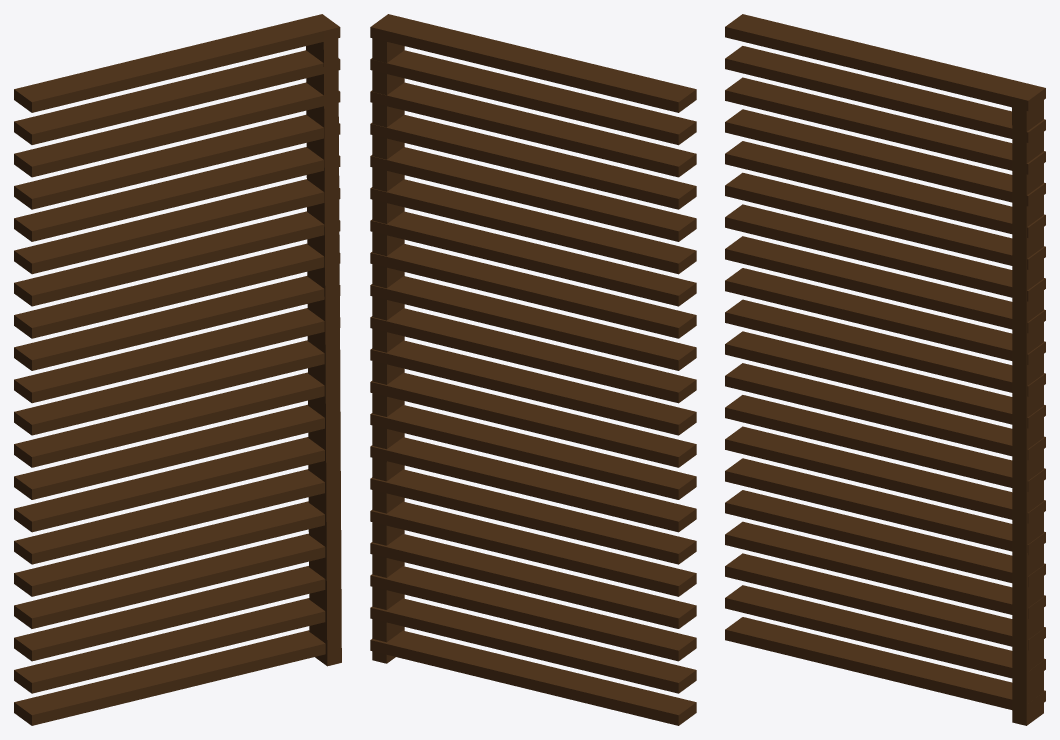
The model's file is Wall left end.glb.
3 renders of one model, left to right at view 1: azimuth 30°, elevation 25°; view 2: azimuth 150°, elevation 25°; view 3: azimuth 330°, elevation 25°, orthographic.
Visible parts, largest first — view 1: Wall_with_planks_side_l.001, Wall_With_Planks_plank_19.006, Wall_With_Planks_plank_00.006, Wall_With_Planks_plank_01.006, Wall_With_Planks_plank_02.006, Wall_With_Planks_plank_03.006, Wall_With_Planks_plank_12.006, Wall_With_Planks_plank_11.006, Wall_With_Planks_plank_14.006, Wall_With_Planks_plank_13.006, Wall_With_Planks_plank_17.006, Wall_With_Planks_plank_10.006 (+9 smaller); view 2: Wall_with_planks_side_l.001, Wall_With_Planks_plank_02.006, Wall_With_Planks_plank_01.006, Wall_With_Planks_plank_00.006, Wall_With_Planks_plank_03.006, Wall_With_Planks_plank_19.006, Wall_With_Planks_plank_04.006, Wall_With_Planks_plank_06.006, Wall_With_Planks_plank_05.006, Wall_With_Planks_plank_07.006, Wall_With_Planks_plank_08.006, Wall_With_Planks_plank_09.006 (+9 smaller); view 3: Wall_with_planks_side_l.001, Wall_With_Planks_plank_19.006, Wall_With_Planks_plank_17.006, Wall_With_Planks_plank_16.006, Wall_With_Planks_plank_18.006, Wall_With_Planks_plank_14.006, Wall_With_Planks_plank_15.006, Wall_With_Planks_plank_13.006, Wall_With_Planks_plank_12.006, Wall_With_Planks_plank_11.006, Wall_With_Planks_plank_10.006, Wall_With_Planks_plank_09.006 (+9 smaller).
Part boxes in pixels (bbox=[...]): Wall_with_planks_side_l.001: bbox=[306, 14, 341, 666]; Wall_With_Planks_plank_19.006: bbox=[14, 14, 340, 112]; Wall_With_Planks_plank_00.006: bbox=[14, 630, 325, 725]; Wall_With_Planks_plank_01.006: bbox=[14, 598, 325, 693]; Wall_With_Planks_plank_02.006: bbox=[14, 566, 325, 661]; Wall_With_Planks_plank_03.006: bbox=[14, 533, 325, 628]; Wall_With_Planks_plank_12.006: bbox=[14, 243, 340, 338]; Wall_With_Planks_plank_11.006: bbox=[14, 276, 340, 370]; Wall_With_Planks_plank_14.006: bbox=[14, 179, 340, 274]; Wall_With_Planks_plank_13.006: bbox=[14, 211, 340, 306]; Wall_With_Planks_plank_17.006: bbox=[14, 82, 340, 177]; Wall_With_Planks_plank_10.006: bbox=[14, 308, 340, 403]; Wall_with_planks_side_l.001: bbox=[372, 14, 404, 663]; Wall_With_Planks_plank_02.006: bbox=[370, 566, 696, 661]; Wall_With_Planks_plank_01.006: bbox=[370, 598, 696, 693]; Wall_With_Planks_plank_00.006: bbox=[370, 630, 696, 725]; Wall_With_Planks_plank_03.006: bbox=[370, 534, 696, 628]; Wall_With_Planks_plank_19.006: bbox=[370, 14, 696, 112]; Wall_With_Planks_plank_04.006: bbox=[370, 501, 696, 596]; Wall_With_Planks_plank_06.006: bbox=[370, 437, 696, 532]; Wall_With_Planks_plank_05.006: bbox=[370, 469, 696, 564]; Wall_With_Planks_plank_07.006: bbox=[370, 405, 696, 499]; Wall_With_Planks_plank_08.006: bbox=[370, 372, 696, 467]; Wall_With_Planks_plank_09.006: bbox=[370, 340, 696, 435]; Wall_with_planks_side_l.001: bbox=[1012, 84, 1043, 725]; Wall_With_Planks_plank_19.006: bbox=[725, 14, 1045, 111]; Wall_With_Planks_plank_17.006: bbox=[725, 77, 1045, 174]; Wall_With_Planks_plank_16.006: bbox=[725, 109, 1045, 206]; Wall_With_Planks_plank_18.006: bbox=[725, 46, 1045, 142]; Wall_With_Planks_plank_14.006: bbox=[725, 172, 1045, 269]; Wall_With_Planks_plank_15.006: bbox=[725, 141, 1045, 237]; Wall_With_Planks_plank_13.006: bbox=[725, 204, 1045, 301]; Wall_With_Planks_plank_12.006: bbox=[725, 236, 1045, 333]; Wall_With_Planks_plank_11.006: bbox=[725, 268, 1045, 364]; Wall_With_Planks_plank_10.006: bbox=[725, 299, 1045, 396]; Wall_With_Planks_plank_09.006: bbox=[725, 331, 1045, 428].
Size of the model in its own units: 1.5 by 2.95 by 0.1647.
